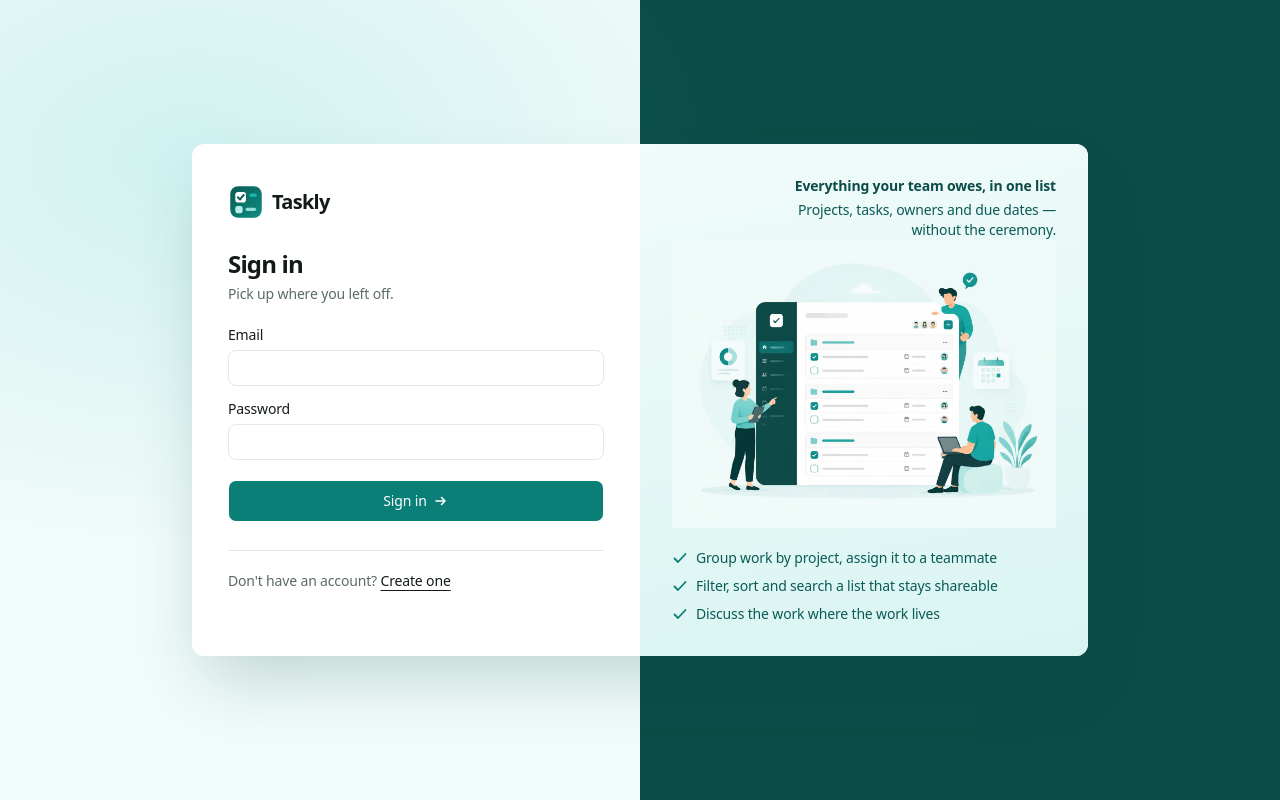
Test: authentication › validates credentials client-side before touching the network
Step 1. Type "not-an-email" into the field labelled "Email" → (416, 368), box [228,350,604,386]
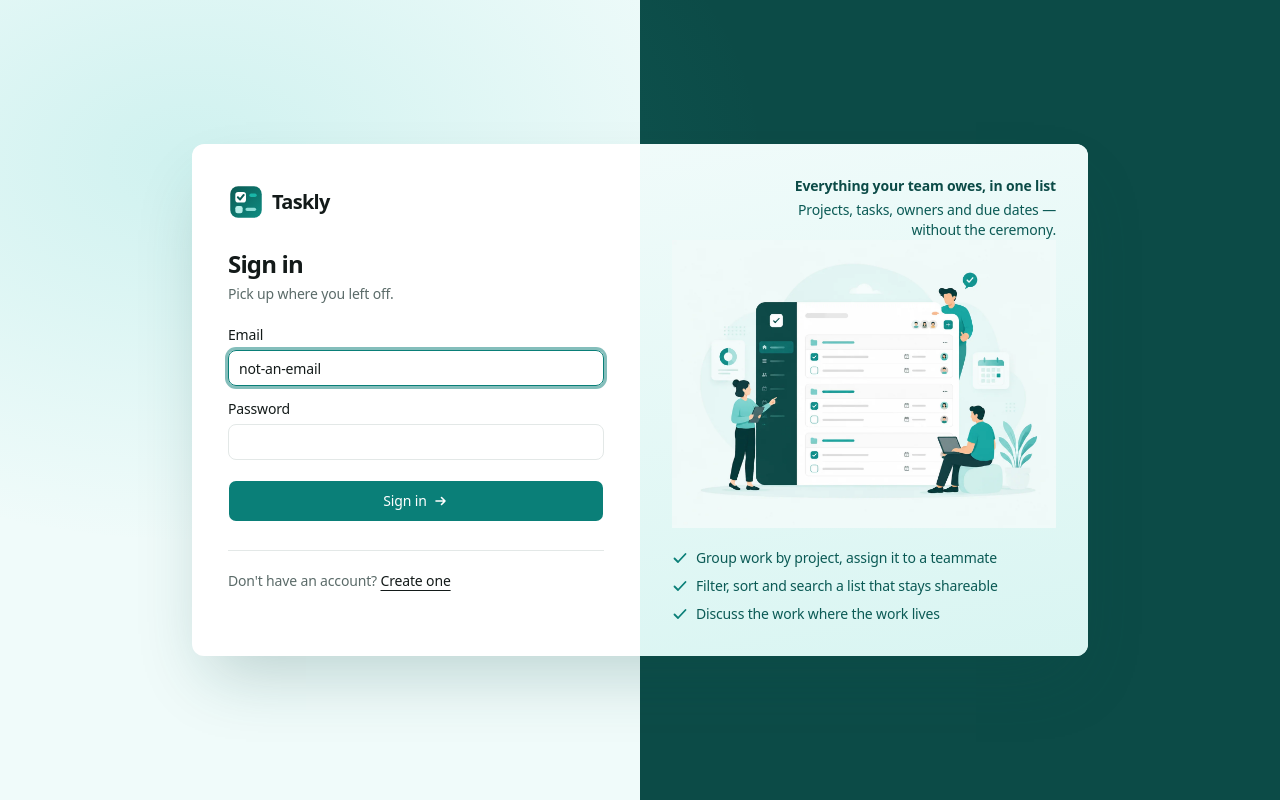
Step 2. Type "short" into the password field labelled "Password" → (416, 442), box [228,424,604,460]
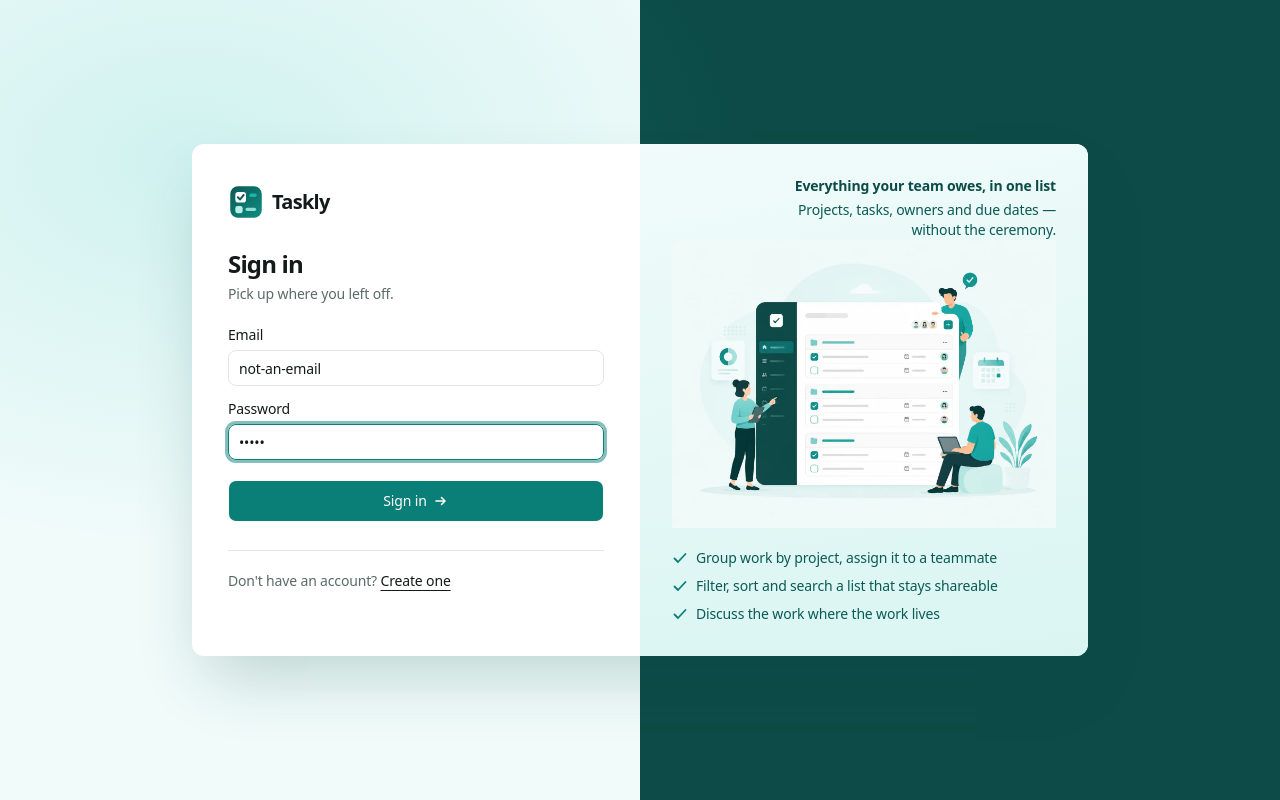
Step 3. Click the button "Sign in" → (416, 501), box [228,480,604,522]
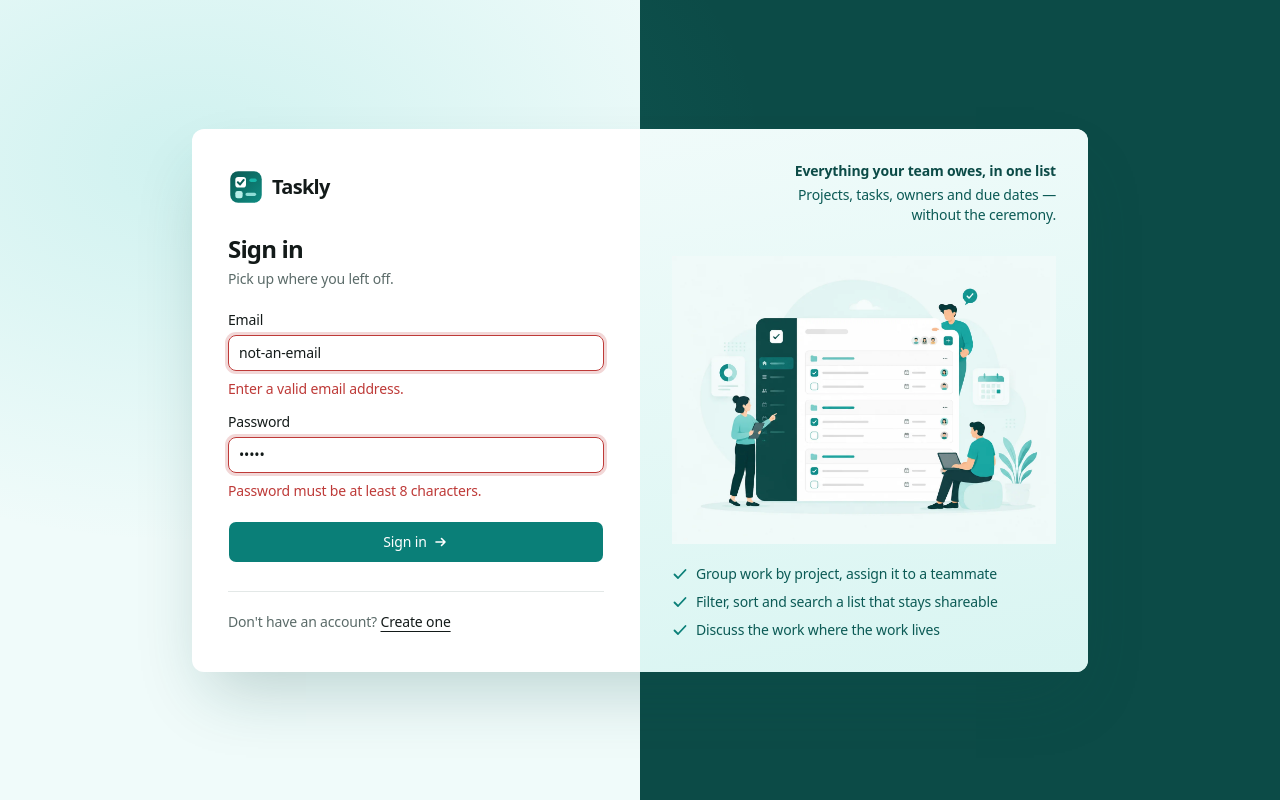
Result: the text "Enter a valid email address." is shown at [228,378,404,398]
Result: the text "Password must be at least 8 characters." is shown at [228,480,482,500]
